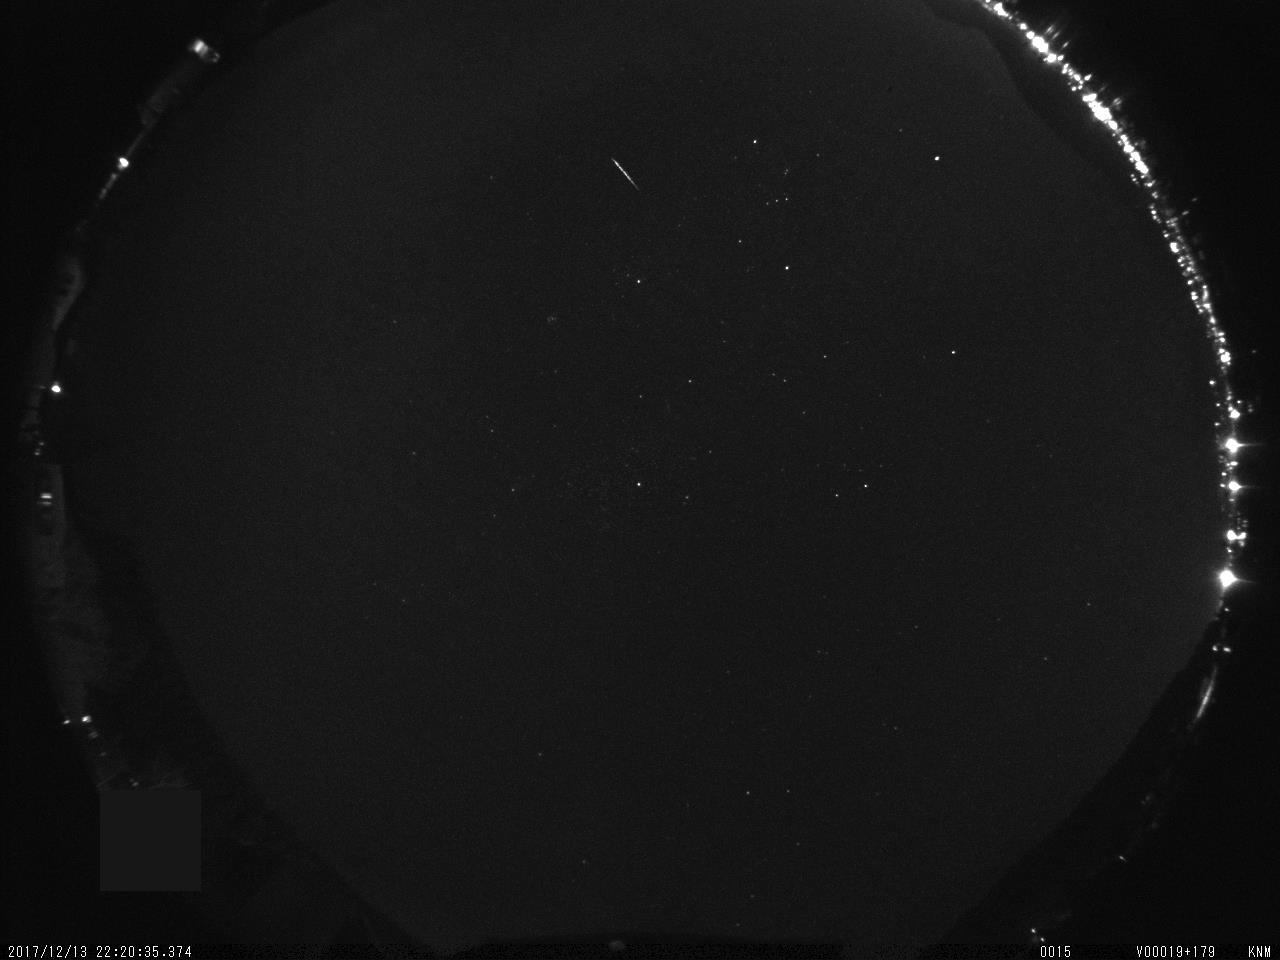meteor: (598, 149, 658, 207)
